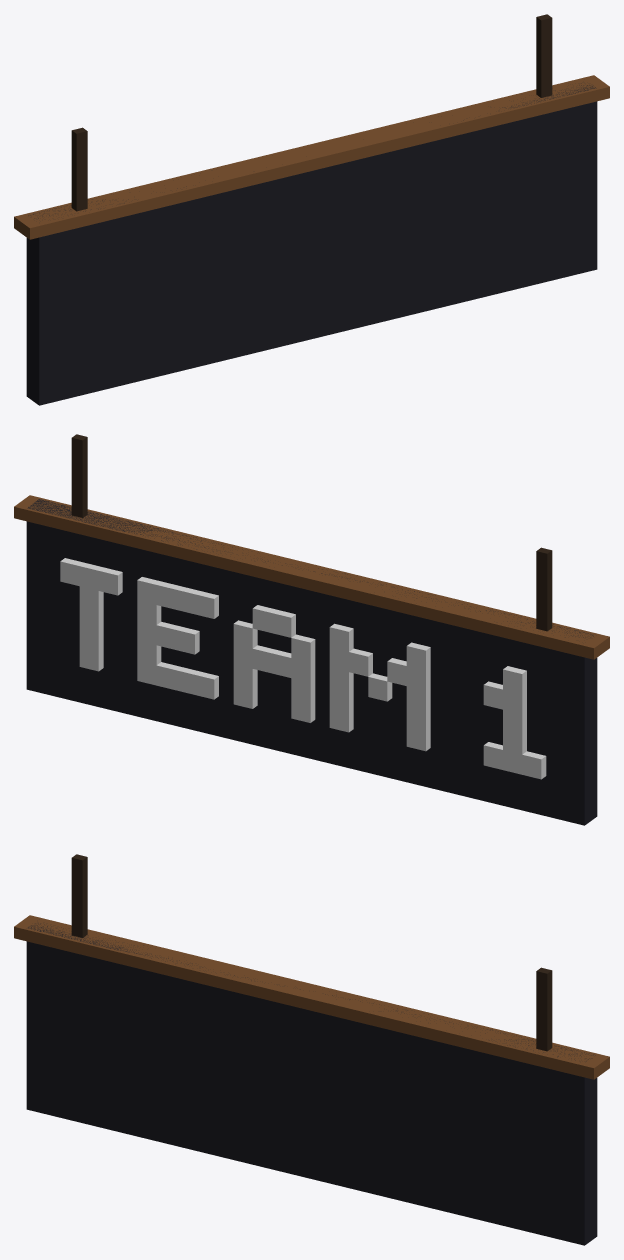
Rendered from tt-sign-team-1.glb.
The picture shows the model from 3 angles, top to bottom: view 1: azimuth 30°, elevation 25°; view 2: azimuth 150°, elevation 25°; view 3: azimuth 330°, elevation 25°; orthographic projection.
Visible parts, largest first — view 1: box-prop; view 2: box-prop; view 3: box-prop.
Part boxes in pixels (<box>): box-prop: <box>14,14,609,405</box>; box-prop: <box>14,434,609,825</box>; box-prop: <box>14,854,609,1245</box>.
Size of the model in its own units: 2.11 by 0.9 by 0.12.
